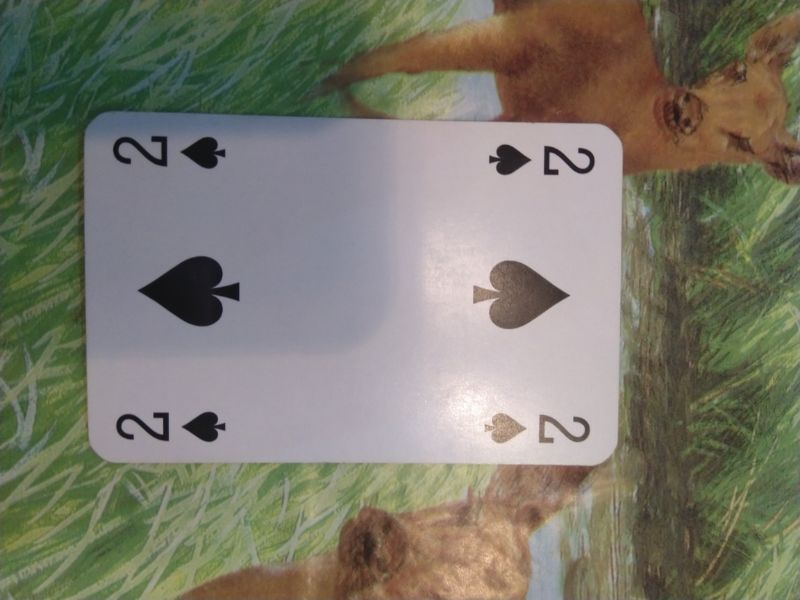2s: (106, 128, 239, 176), (477, 136, 597, 184), (477, 405, 599, 449), (114, 403, 231, 447)
